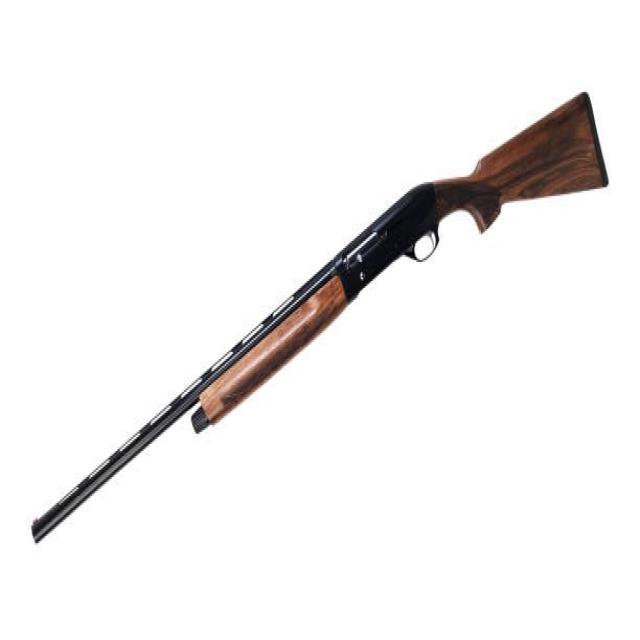rifle: (29, 80, 610, 556)
